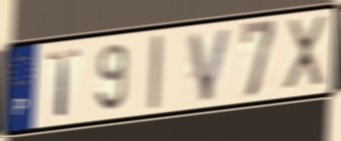7: (240, 17, 277, 101)
9: (95, 42, 130, 114)
I: (147, 32, 164, 112)
T: (46, 46, 83, 119)
V: (186, 25, 235, 105)
X: (281, 12, 329, 92)
